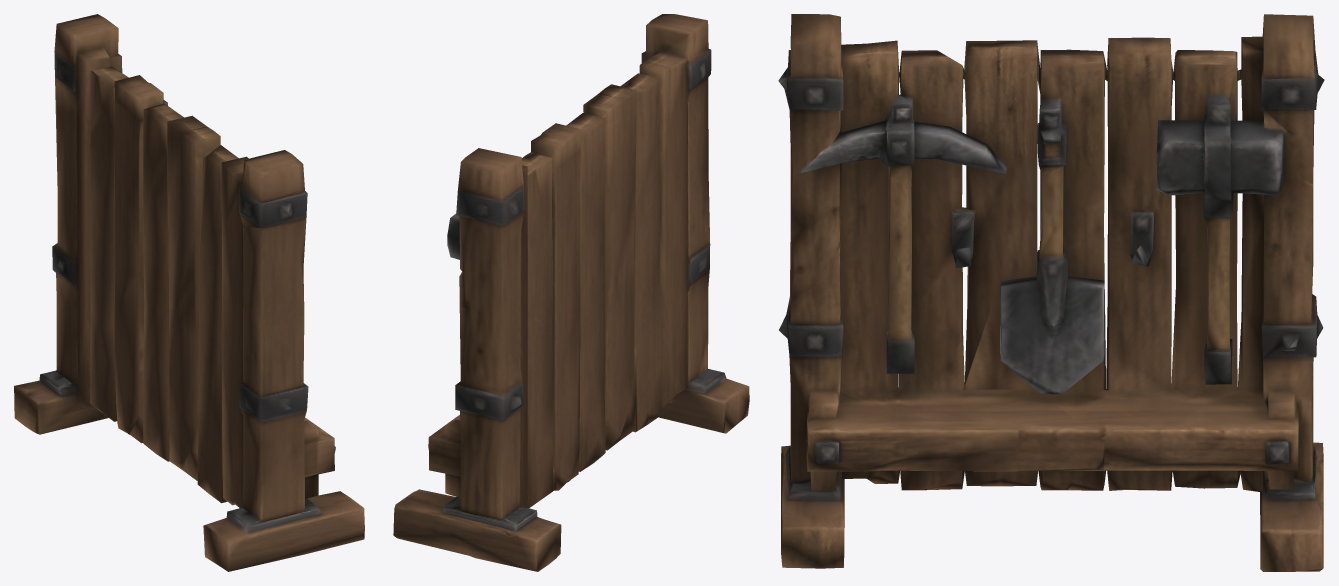
Rendered from textures.glb.
3 renders of one model, left to right at view 1: azimuth 30°, elevation 25°; view 2: azimuth 150°, elevation 25°; view 3: azimuth 270°, elevation 25°, orthographic. The views are drawn at different scales.
Parts seen in each view (by area): view 1: tripo_node_b871bac4-8e7a-4bd3-a10f-5f44b75386f1; view 2: tripo_node_b871bac4-8e7a-4bd3-a10f-5f44b75386f1; view 3: tripo_node_b871bac4-8e7a-4bd3-a10f-5f44b75386f1.
Part boxes in pixels (box(x1,y1,x2,y2)): tripo_node_b871bac4-8e7a-4bd3-a10f-5f44b75386f1: box(14, 14, 364, 571); tripo_node_b871bac4-8e7a-4bd3-a10f-5f44b75386f1: box(393, 14, 749, 571); tripo_node_b871bac4-8e7a-4bd3-a10f-5f44b75386f1: box(778, 14, 1324, 571).
Size of the model in its own units: 0.3838 by 0.9973 by 1.
1 material, 1 textured.
